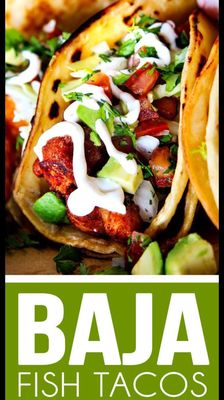sandwich: (9, 0, 210, 268)
